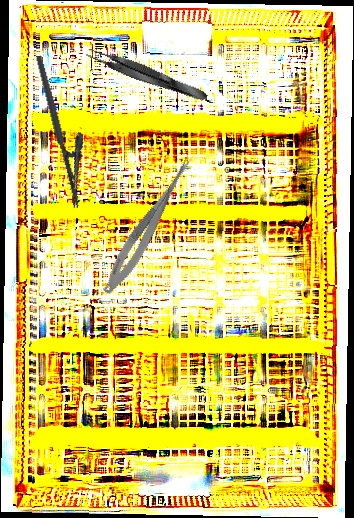Micro Scissor: (97, 147, 200, 300)
Needle Holder: (34, 49, 101, 210)
Tissue Forceps: (84, 43, 210, 107)
